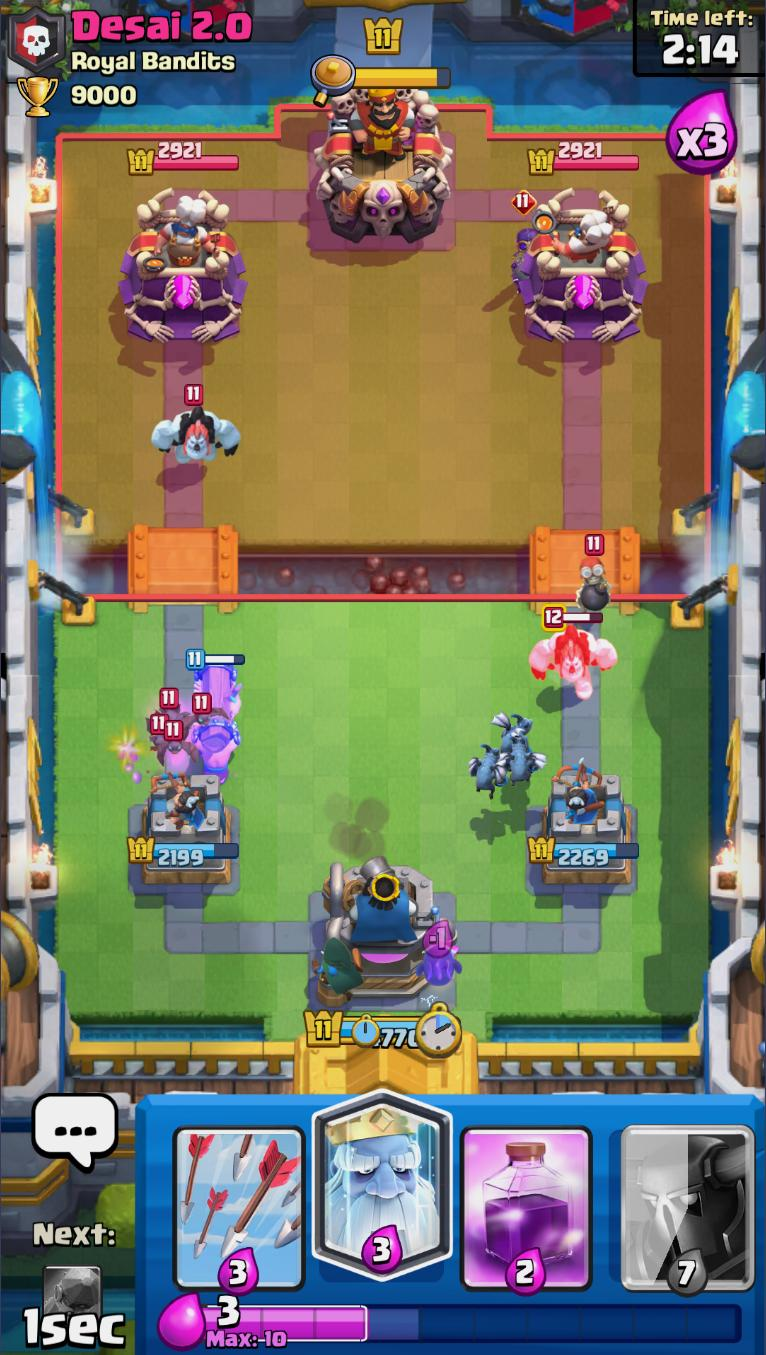ArrowDeck: (167, 1097, 313, 1290)
Bat: (154, 719, 199, 768), (182, 693, 219, 732), (145, 711, 175, 750), (153, 688, 183, 726)
BattleRamNext: (41, 1261, 104, 1343)
Bomber: (574, 533, 613, 616)
Chef: (147, 199, 220, 270), (540, 204, 614, 269)
Elixir: (202, 1296, 742, 1349)
EnemyTower: (119, 189, 249, 344), (520, 189, 649, 343)
EvoBomber: (507, 190, 543, 294)
IceGolem: (151, 382, 242, 472), (529, 608, 617, 698)
KingTower: (314, 84, 456, 244)
MyBandit: (309, 936, 366, 1006)
MyBattleRam: (184, 649, 244, 780)
MyElectroSpirit: (409, 940, 464, 989)
MyKingHP: (301, 1004, 463, 1053)
MyKingTower: (311, 853, 461, 1009)
MyMinion: (496, 734, 546, 789), (467, 744, 510, 799), (493, 710, 533, 756)
MyPrincessTower: (127, 774, 240, 889), (529, 774, 641, 890)
MyPrincessTowerHP: (126, 833, 241, 869), (529, 833, 641, 867)
PekkaDeck: (599, 1100, 744, 1297)
RageDeck: (453, 1100, 599, 1300)
RoyaleGhostDeck: (310, 1100, 456, 1296)
TowerPrincessHP: (529, 141, 641, 177), (129, 141, 241, 174)
